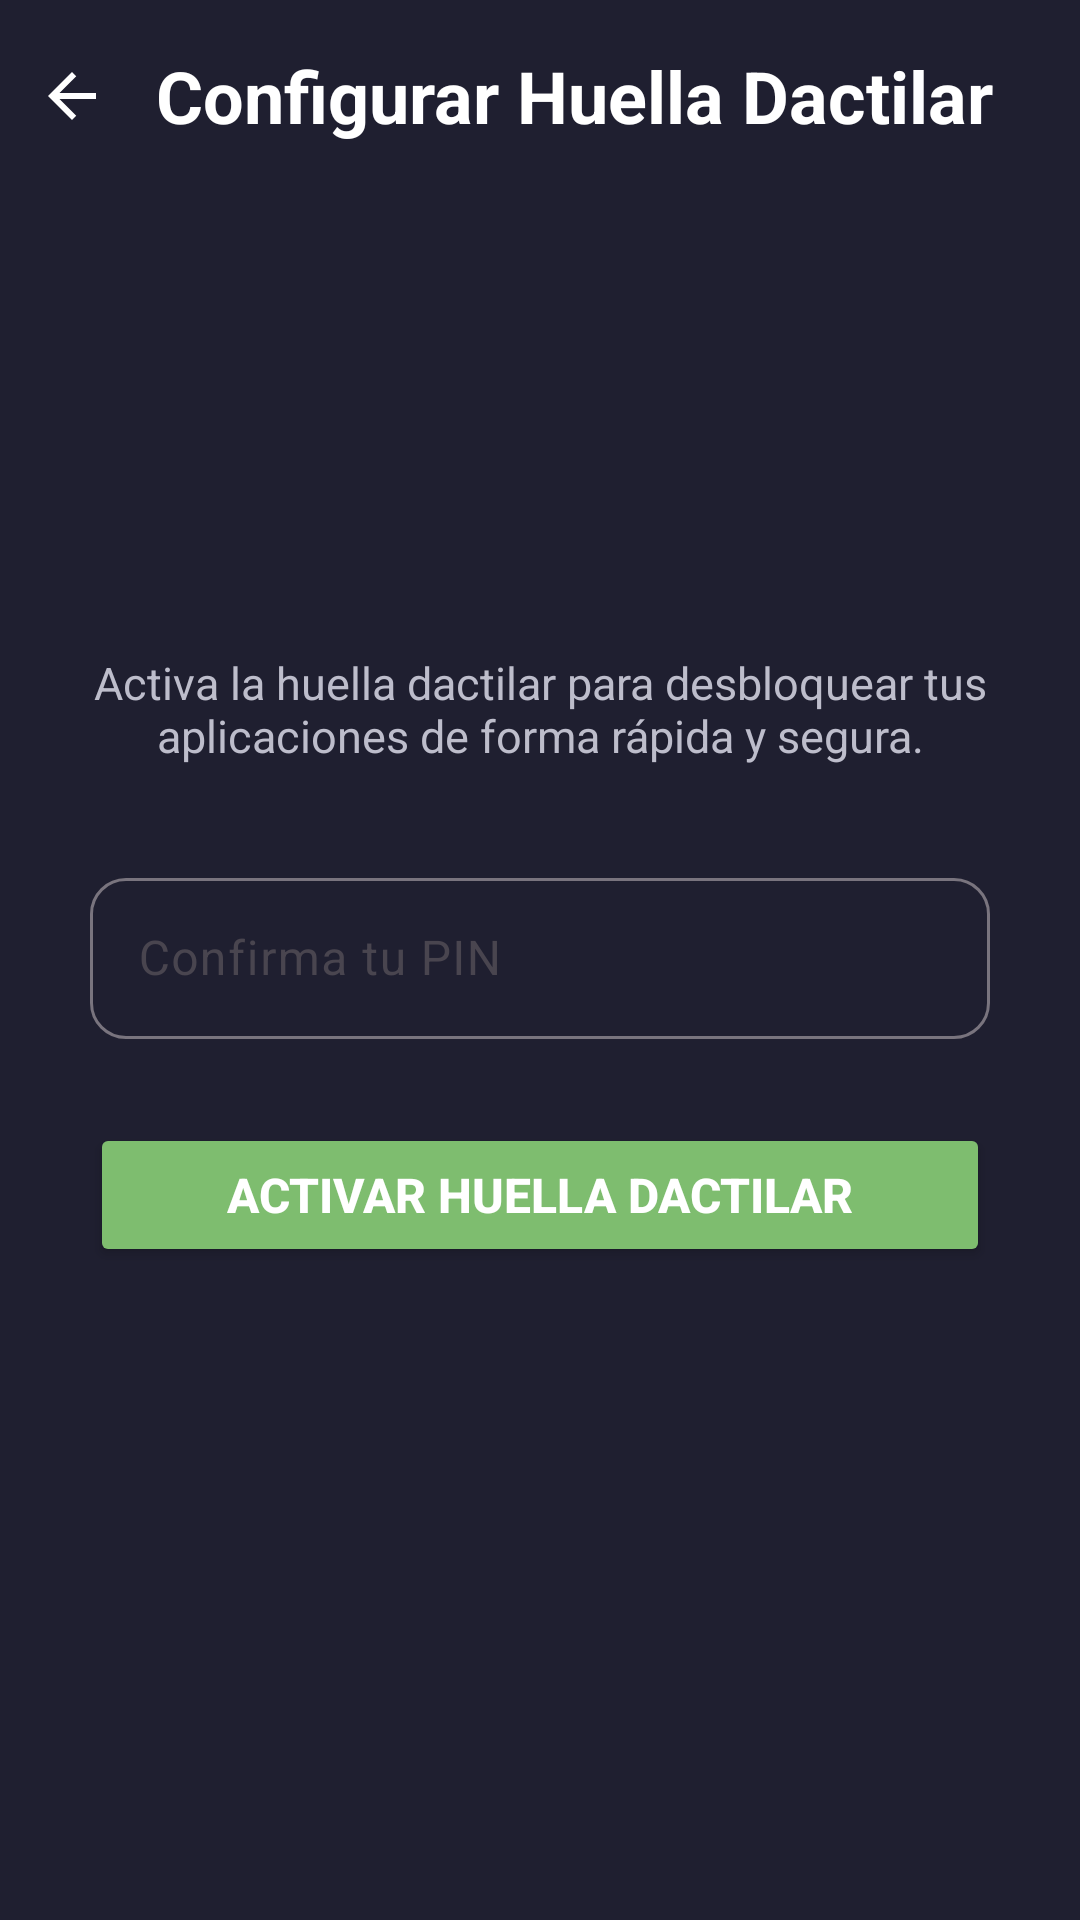

Named icons in this screenshot (1080px x 1920px) and their centers, (x,y):
Volver: (72,96)
